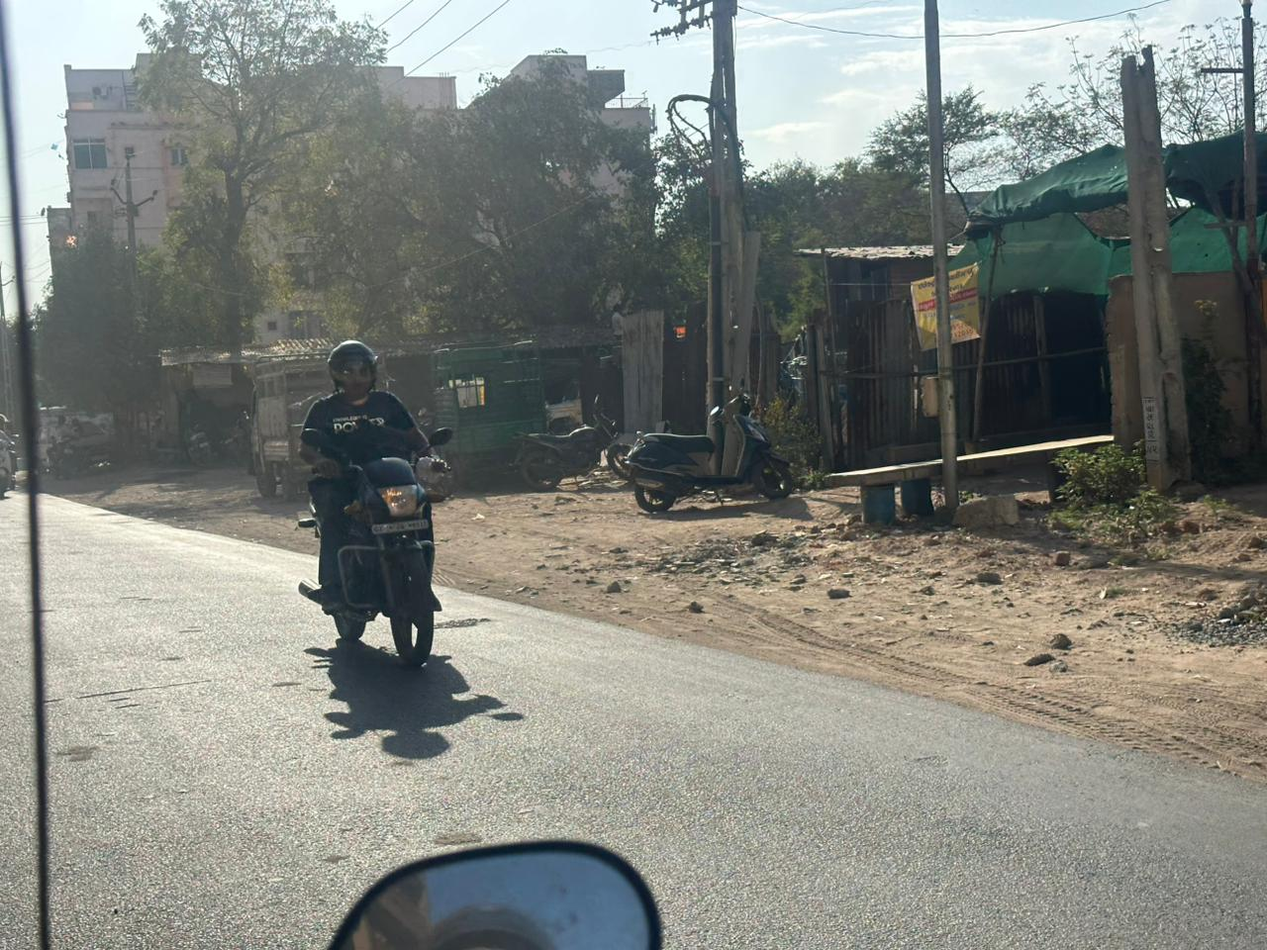BikeWithRider: (285, 330, 470, 679)
Helmet: (319, 332, 387, 406)
